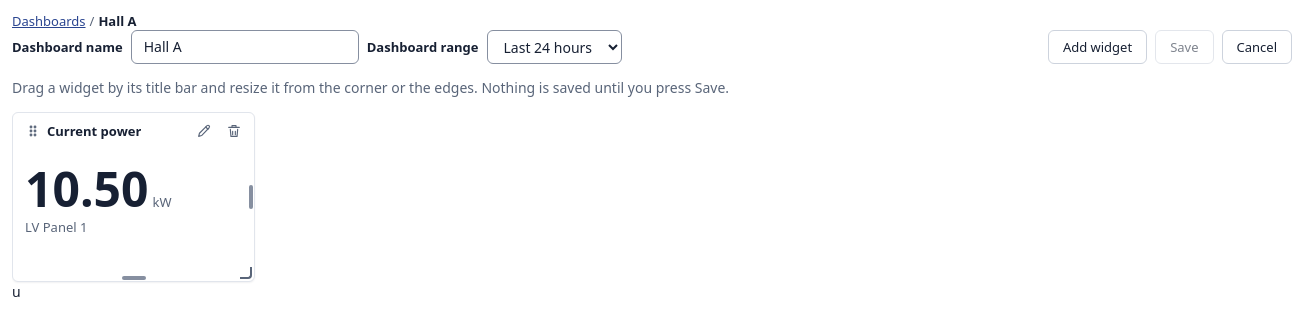
Test: who can edit › opens straight in edit mode after a dashboard was just created, and forgets the router state when it leaves
Check: the field labelled "Dashboard name" is shown, box x1=131 y1=30 x2=359 y2=64
What coordinates should you click on to do the following:
click the button "Cancel"
I would click on:
 (1257, 47)
Its box is x1=1222 y1=30 x2=1292 y2=64.
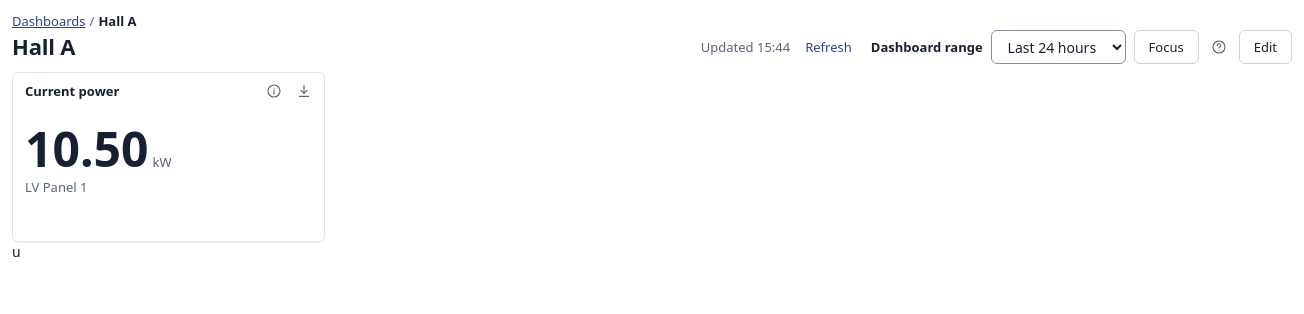
Check: the button "Edit" is shown, box x1=1239 y1=30 x2=1292 y2=64
